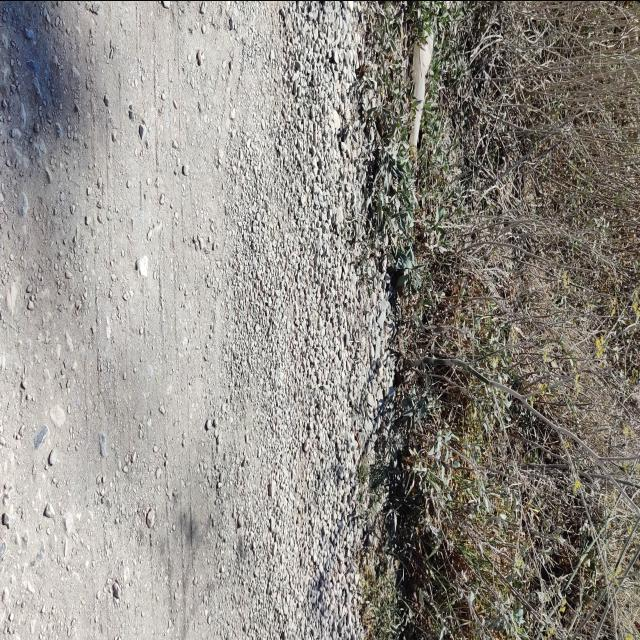Clear plastic bottle: (409, 26, 433, 159)
